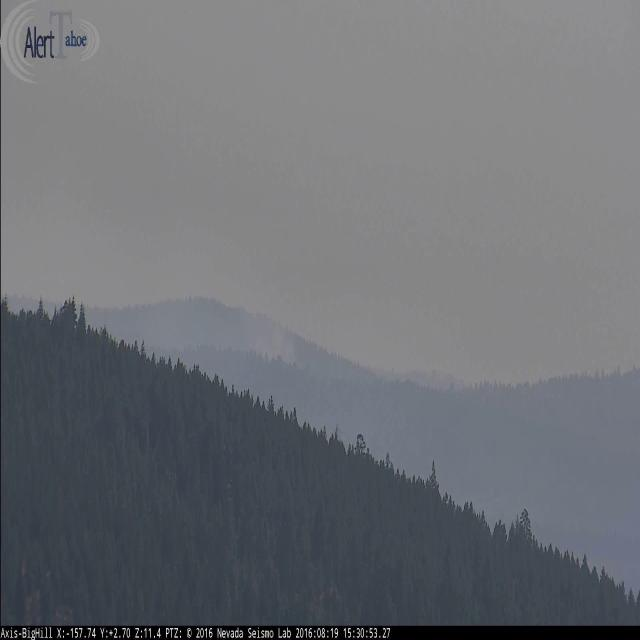smoke: (207, 300, 298, 368)
